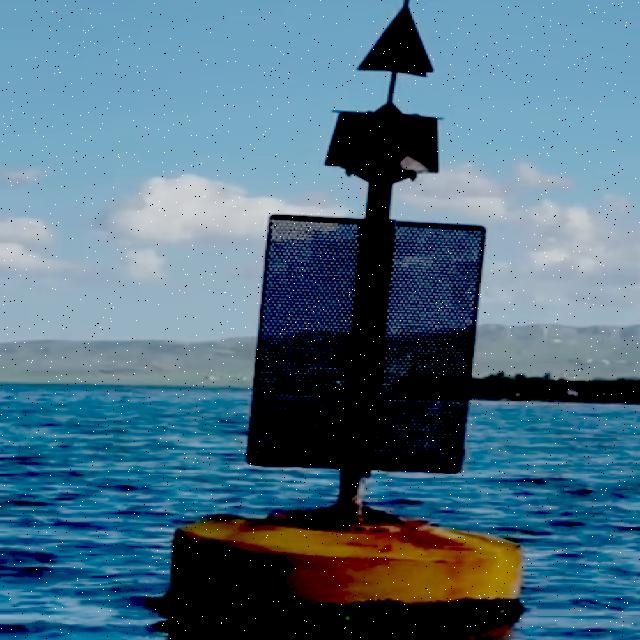marque: (155, 1, 527, 640)
